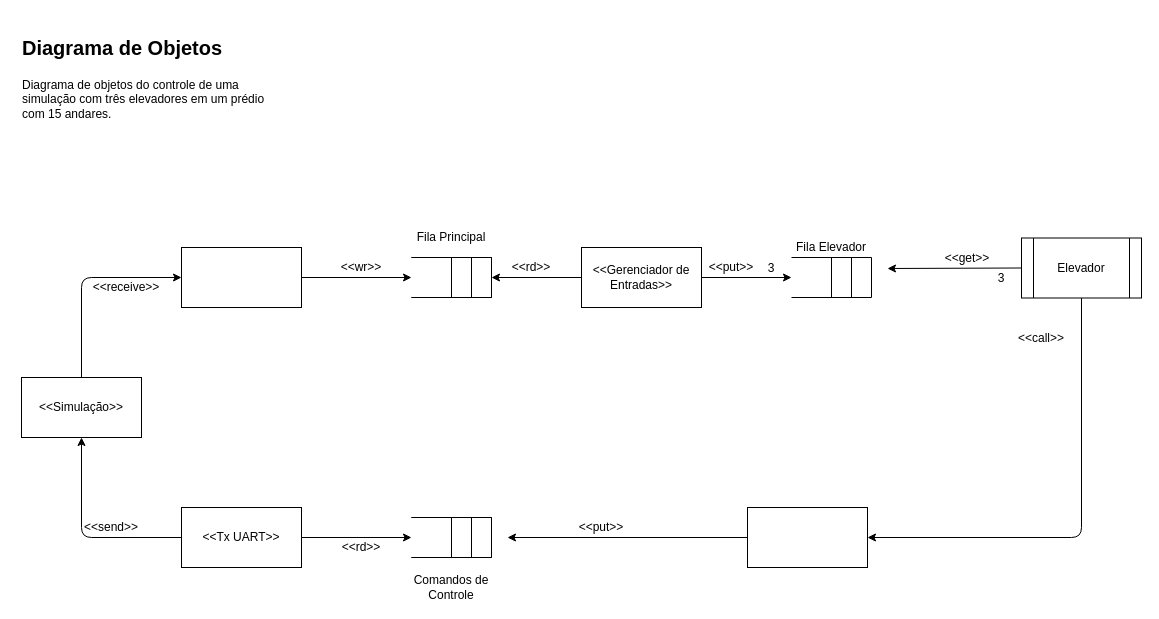
Image size: 1159x619. Some labels were removed from this diagram. Here are the shapes that lost their labels. From the top down, the box of each, then its label:
(180, 246, 302, 308): <<Rx UART>>
(746, 506, 868, 568): <<Envio de Comandos à simulação>>
